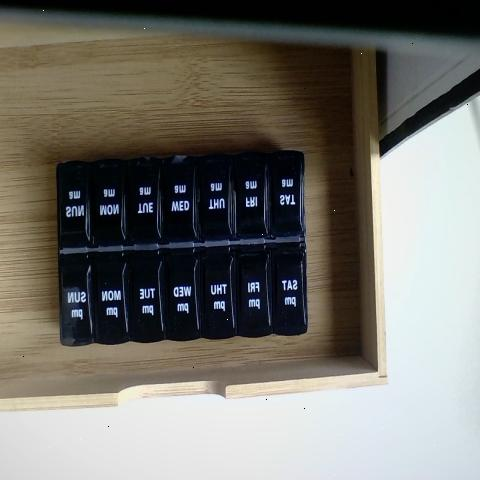FRI-am: (234, 152, 267, 240)
FRI-pm: (234, 245, 268, 337)
MON-am: (90, 155, 125, 242)
MON-pm: (96, 252, 128, 343)
SAT-am: (267, 154, 305, 240)
SAT-pm: (270, 244, 305, 334)
SUN-am: (58, 159, 90, 245)
SUN-pm: (61, 256, 94, 347)
THU-am: (197, 154, 233, 246)
THU-pm: (198, 246, 232, 337)
TUE-am: (126, 154, 160, 242)
TUE-pm: (129, 250, 163, 343)
WED-am: (164, 152, 196, 246)
WED-pm: (165, 249, 197, 339)
